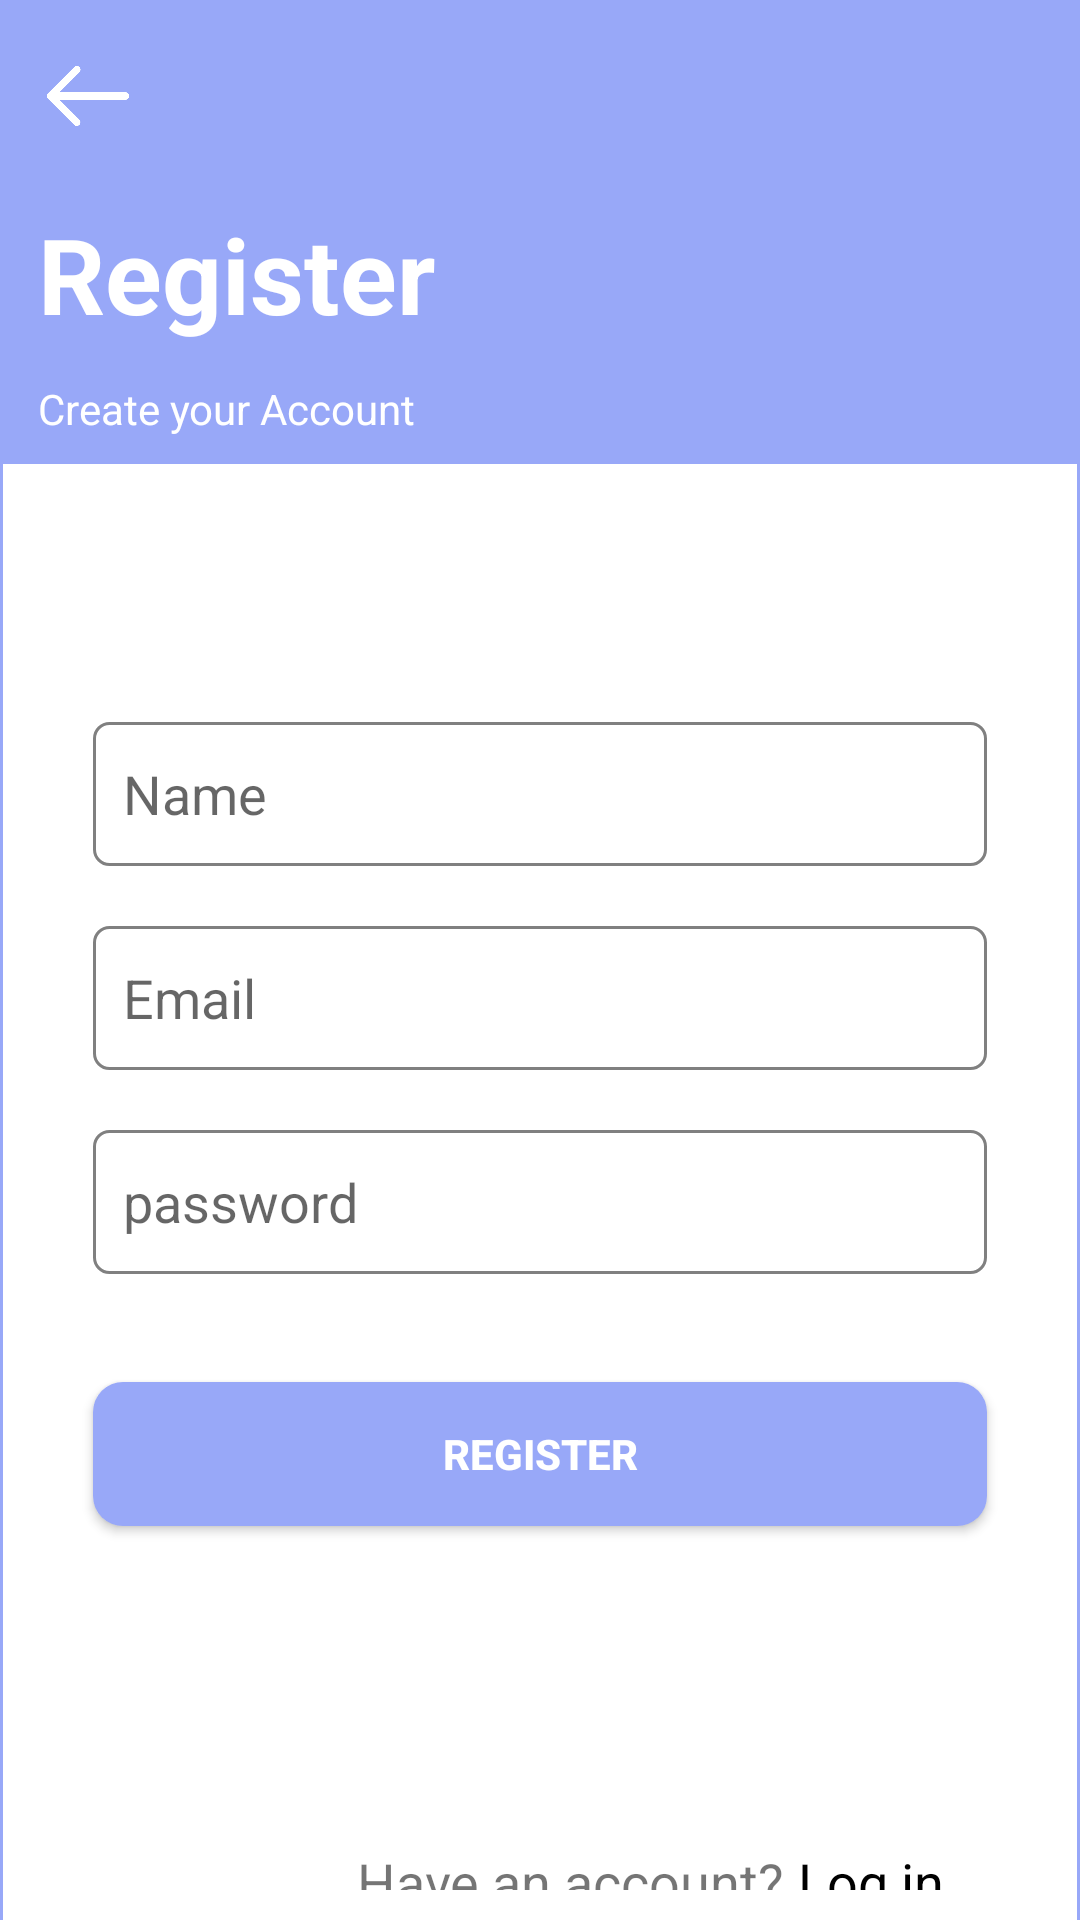

Icons on this 1080w x 1920h Android screen, each with its box as (x1, y1, x2, y2):
back: (47, 66, 129, 126)
